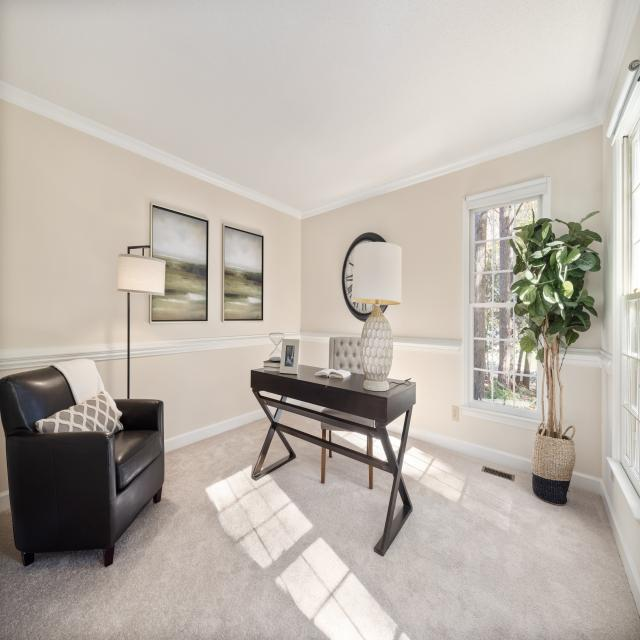floor: (0, 416, 640, 640)
wall: (0, 98, 301, 351), (300, 124, 603, 349), (387, 349, 538, 474), (130, 344, 276, 453), (602, 9, 640, 356), (600, 369, 640, 611), (560, 364, 601, 493), (222, 223, 264, 322), (130, 293, 209, 342), (93, 358, 127, 399), (0, 415, 11, 514), (300, 341, 329, 369), (554, 364, 560, 432), (544, 372, 549, 424), (130, 248, 143, 256), (277, 340, 282, 352), (144, 248, 150, 257)
